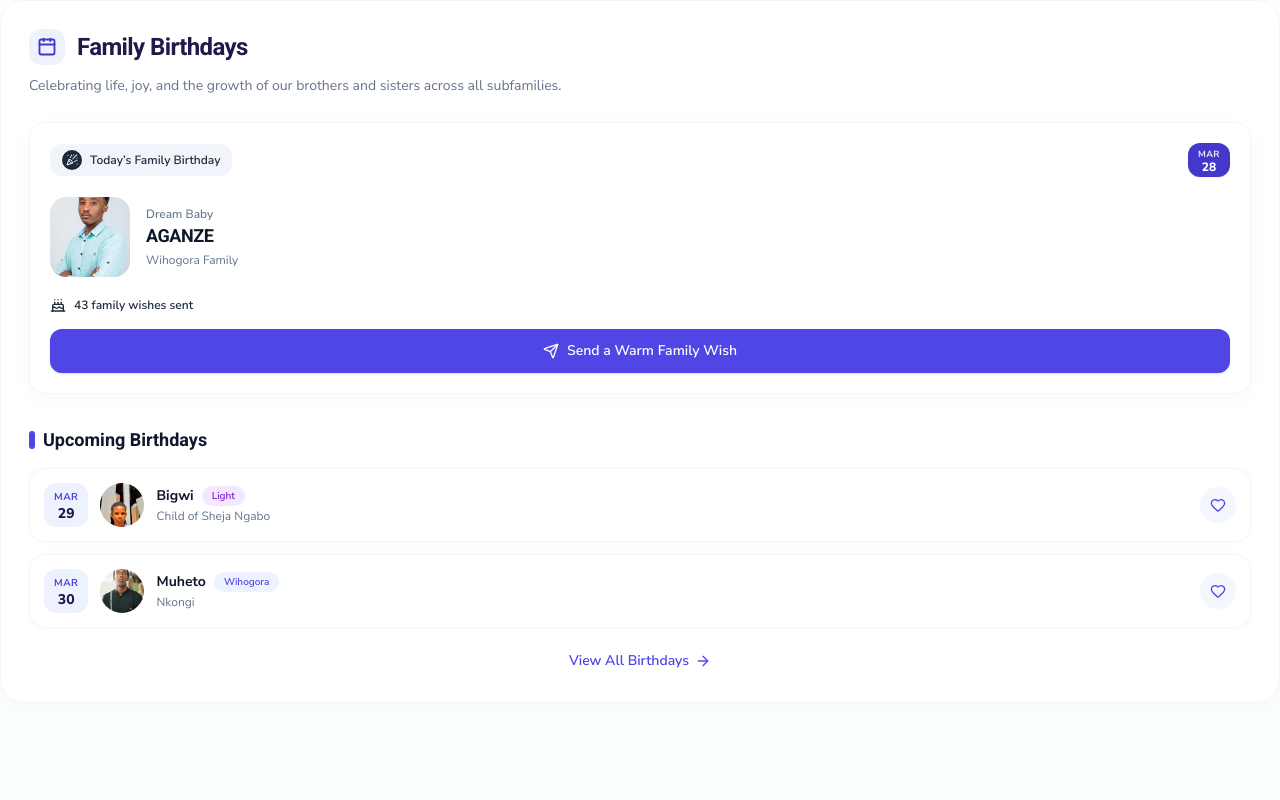
BirthdaysPanel › only sends once a wish is chosen or written
The image size is (1280, 800).
Click the button "Send a Warm Family Wish" at (640, 351), box [50,329,1230,373]
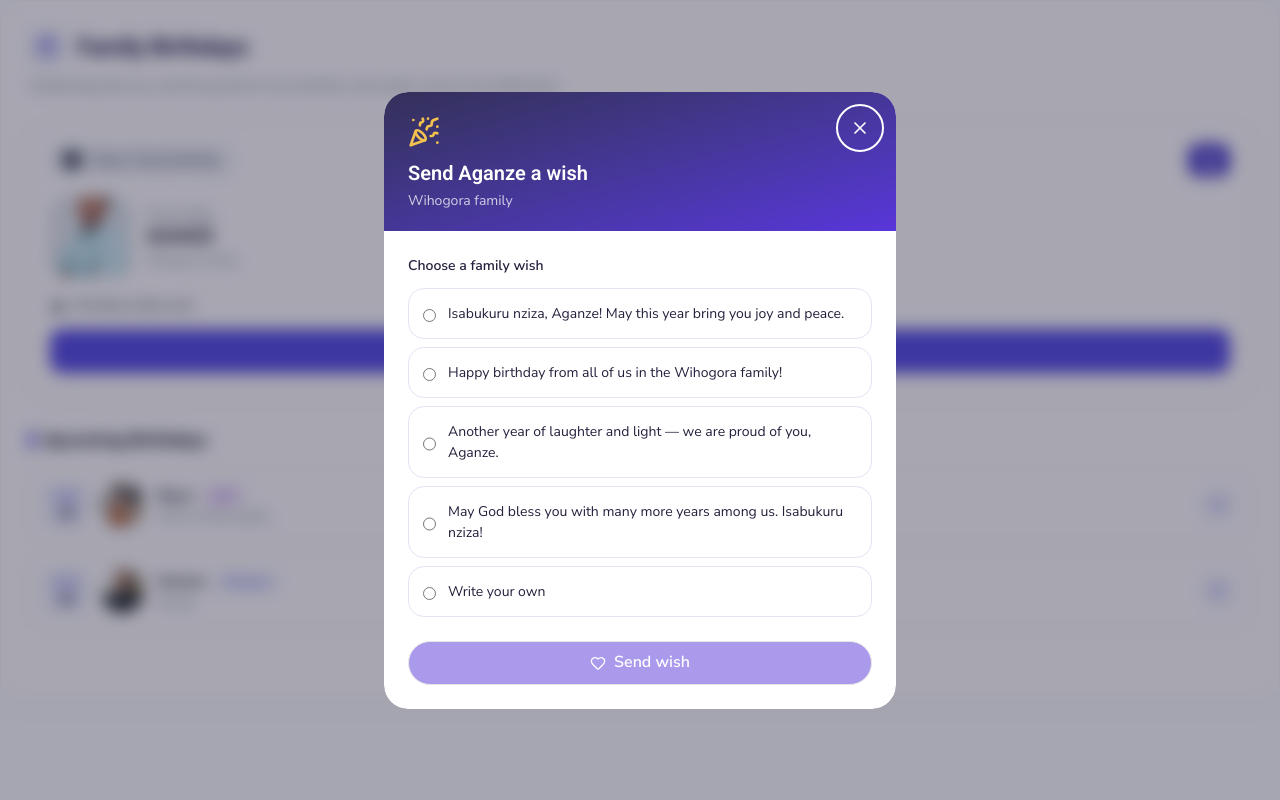
Expected: the button "Send wish" is disabled, [408,640,872,684]
